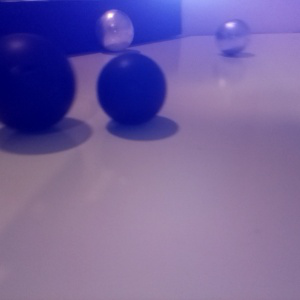alive_ball: (94, 9, 135, 53), (216, 19, 250, 56)
dead_ball: (1, 38, 77, 134), (97, 53, 168, 127)
